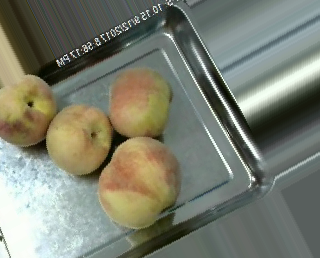Peach: (98, 137, 181, 229), (45, 103, 113, 174), (109, 66, 172, 137), (0, 73, 55, 147)
